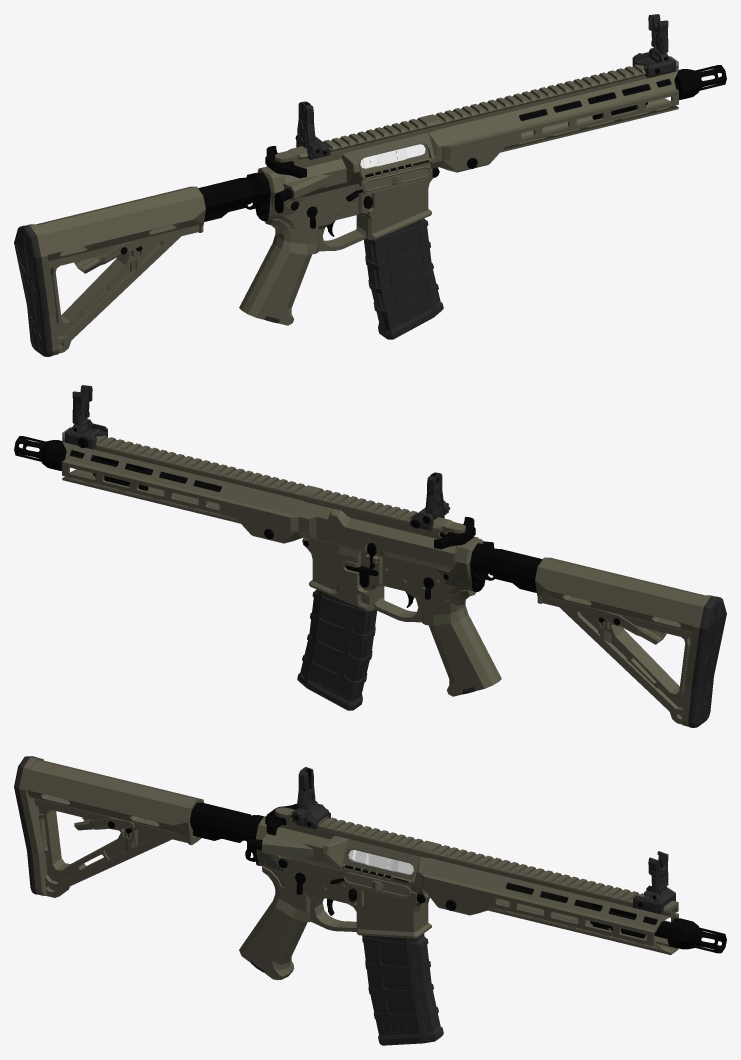
File: Gun.fbx
The picture shows the model from 3 angles, top to bottom: view 1: azimuth 30°, elevation 25°; view 2: azimuth 150°, elevation 25°; view 3: azimuth 330°, elevation 25°; orthographic projection.
Parts seen in each view (by area): view 1: m23 stock, m23 forend, m23 lower receiver, 55645 m16 mag empty 30rnd (magpul), m23 upper receiver, m23 pistol grip, magpul mbus pro front iron sight, m23 dust covet, m23 flash hider, magpul mbus pro rear iron sight, m23 barrel, m23 bolt carrier (+1 smaller); view 2: m23 stock, m23 forend, m23 lower receiver, m23 upper receiver, 55645 m16 mag empty 30rnd (magpul), m23 pistol grip, magpul mbus pro front iron sight, magpul mbus pro rear iron sight, m23 flash hider, m23 barrel, m23 charging handle; view 3: m23 stock, m23 forend, m23 lower receiver, 55645 m16 mag empty 30rnd (magpul), m23 upper receiver, m23 pistol grip, m23 dust covet, magpul mbus pro front iron sight, m23 flash hider, magpul mbus pro rear iron sight, m23 barrel, m23 bolt carrier.
Boxes of the visible parts, x1=… form: m23 stock: x1=14, y1=186, x2=205, y2=356; m23 forend: x1=429, y1=56, x2=678, y2=172; m23 lower receiver: x1=155, y1=166, x2=439, y2=251; 55645 m16 mag empty 30rnd (magpul): x1=364, y1=218, x2=443, y2=339; m23 upper receiver: x1=274, y1=115, x2=442, y2=213; m23 pistol grip: x1=239, y1=219, x2=318, y2=325; magpul mbus pro front iron sight: x1=632, y1=14, x2=675, y2=77; m23 dust covet: x1=361, y1=158, x2=431, y2=193; m23 flash hider: x1=675, y1=65, x2=726, y2=99; magpul mbus pro rear iron sight: x1=295, y1=101, x2=330, y2=159; m23 barrel: x1=519, y1=79, x2=678, y2=120; m23 bolt carrier: x1=360, y1=144, x2=425, y2=169; m23 stock: x1=535, y1=557, x2=726, y2=727; m23 forend: x1=62, y1=427, x2=311, y2=543; m23 lower receiver: x1=302, y1=537, x2=585, y2=622; m23 upper receiver: x1=298, y1=486, x2=493, y2=570; 55645 m16 mag empty 30rnd (magpul): x1=297, y1=589, x2=376, y2=710; m23 pistol grip: x1=422, y1=590, x2=501, y2=696; magpul mbus pro front iron sight: x1=65, y1=385, x2=107, y2=449; magpul mbus pro rear iron sight: x1=410, y1=472, x2=450, y2=530; m23 flash hider: x1=14, y1=436, x2=65, y2=470; m23 barrel: x1=62, y1=450, x2=221, y2=491; m23 charging handle: x1=434, y1=517, x2=475, y2=549; m23 stock: x1=14, y1=756, x2=204, y2=897; m23 forend: x1=421, y1=843, x2=678, y2=954; m23 lower receiver: x1=146, y1=802, x2=431, y2=938; 55645 m16 mag empty 30rnd (magpul): x1=362, y1=933, x2=443, y2=1045; m23 upper receiver: x1=247, y1=807, x2=435, y2=898; m23 pistol grip: x1=239, y1=866, x2=310, y2=980; m23 dust covet: x1=342, y1=864, x2=412, y2=899; magpul mbus pro front iron sight: x1=633, y1=851, x2=675, y2=914; m23 flash hider: x1=667, y1=918, x2=726, y2=953; magpul mbus pro rear iron sight: x1=290, y1=767, x2=330, y2=829; m23 barrel: x1=506, y1=883, x2=671, y2=938; m23 bolt carrier: x1=348, y1=850, x2=413, y2=874.
Size of the model in its own units: 814 by 282 by 68.89.
